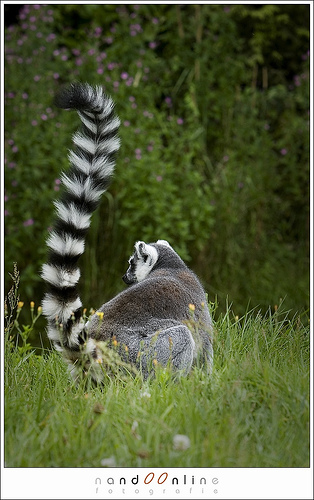cat: (38, 85, 215, 382)
